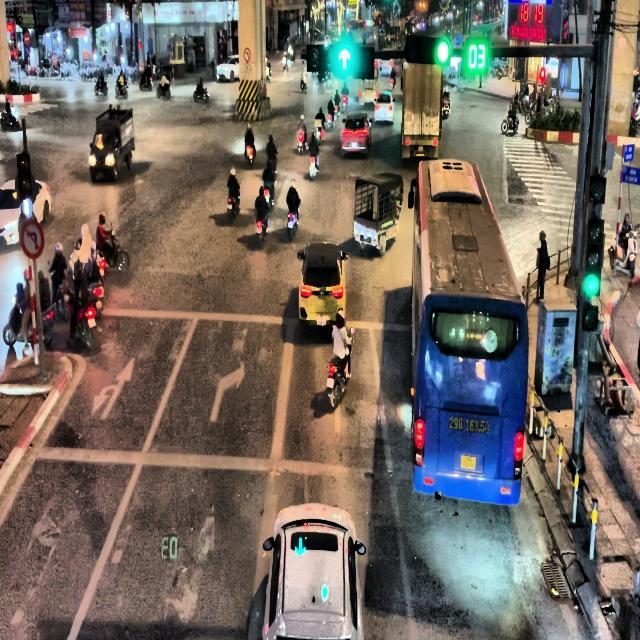BUS: (408, 158, 528, 505)
CAR: (260, 502, 366, 640), (297, 242, 348, 336), (0, 174, 51, 249), (341, 112, 372, 158), (374, 90, 395, 124), (216, 54, 239, 82)
MOTORBIKE: (2, 296, 54, 349), (62, 284, 98, 351), (326, 328, 354, 408), (100, 229, 129, 272), (0, 101, 19, 130), (255, 212, 268, 248), (501, 112, 519, 134), (227, 194, 240, 224), (263, 177, 275, 208), (287, 209, 298, 241), (244, 140, 256, 166), (156, 80, 171, 98), (309, 153, 319, 180), (193, 86, 209, 102), (115, 80, 128, 98), (442, 89, 450, 118), (94, 80, 108, 96), (140, 73, 152, 91), (298, 130, 306, 153), (268, 152, 277, 172), (327, 110, 334, 128), (300, 75, 307, 92)
TRUCK: (89, 104, 134, 182)
